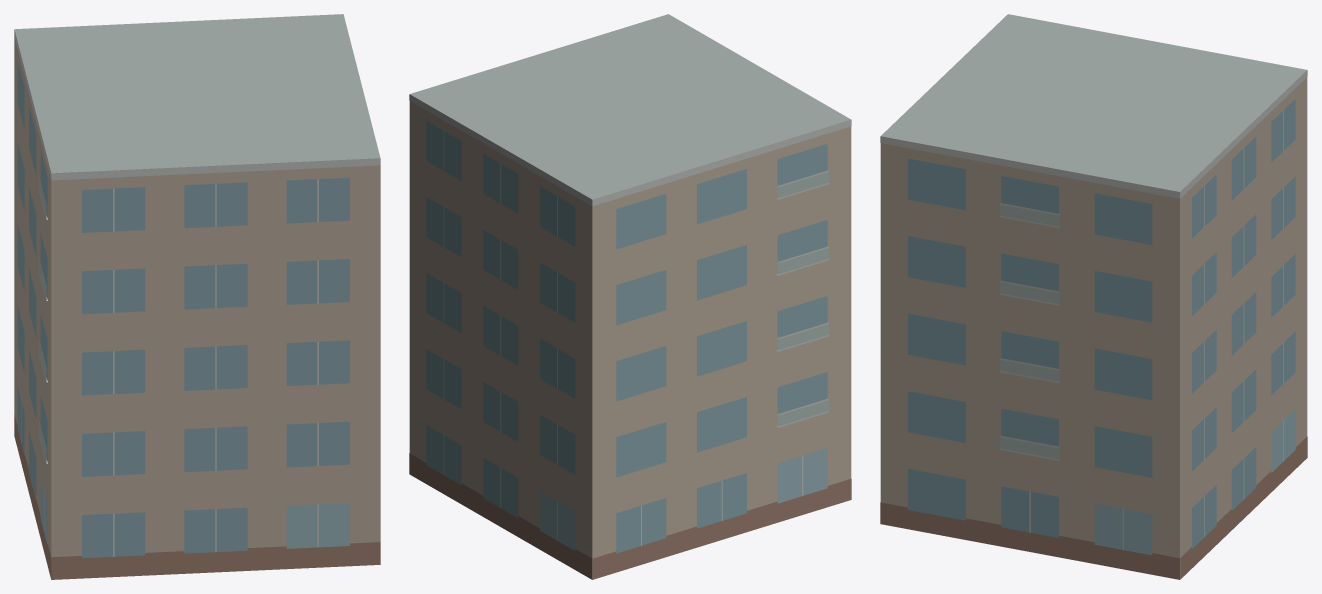
Rendered from survey-upis-32901911.glb.
3 views of the same model, side by side, from view 1: azimuth 30°, elevation 25°; view 2: azimuth 150°, elevation 25°; view 3: azimuth 270°, elevation 25° (orthographic). The views are drawn at different scales.
Visible parts, largest first — view 1: survey-upis-32901911.tmp; view 2: survey-upis-32901911.tmp; view 3: survey-upis-32901911.tmp.
Boxes of the visible parts, x1,y1,x2,y2 form: survey-upis-32901911.tmp: (14, 14, 380, 579); survey-upis-32901911.tmp: (409, 14, 851, 579); survey-upis-32901911.tmp: (880, 14, 1307, 579).
Size of the model in its own units: 13.64 by 13.85 by 13.83.
